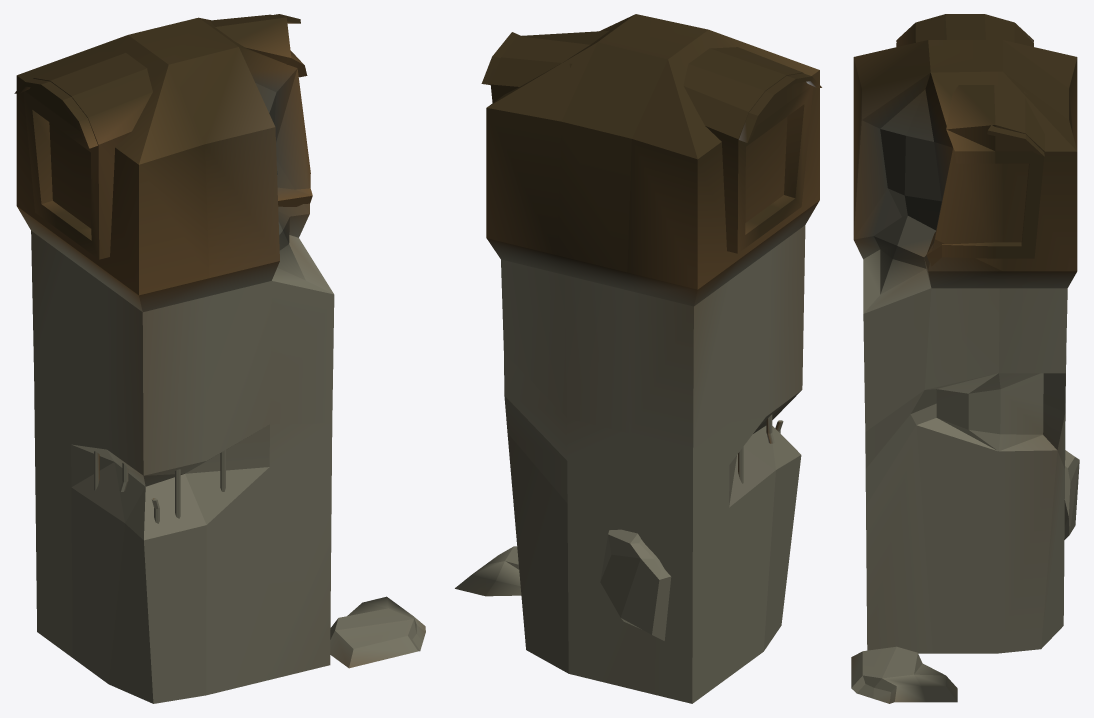
File: TorrearruinadaA.fbx
3 renders of one model, left to right at view 1: azimuth 30°, elevation 25°; view 2: azimuth 150°, elevation 25°; view 3: azimuth 270°, elevation 25°, orthographic. The views are drawn at different scales.
Parts seen in each view (by area): view 1: LOD_0; view 2: LOD_0; view 3: LOD_0.
Part boxes in pixels (x1,y1,x2,y2): LOD_0: (14, 14, 425, 703); LOD_0: (455, 14, 821, 703); LOD_0: (851, 14, 1079, 703).
Size of what is drawn, in the model's own units: 733 by 1274 by 472.
